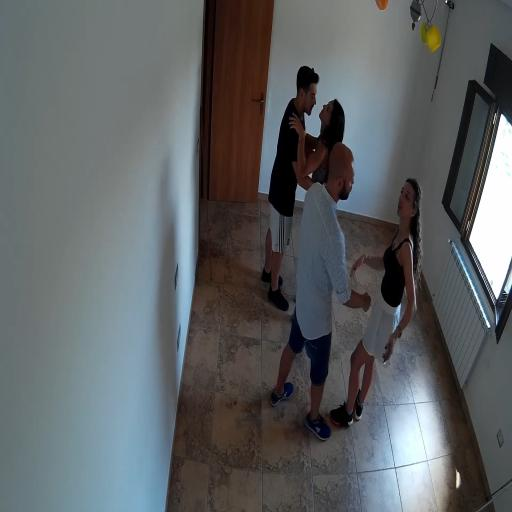nao-violencia: (244, 48, 356, 321)
